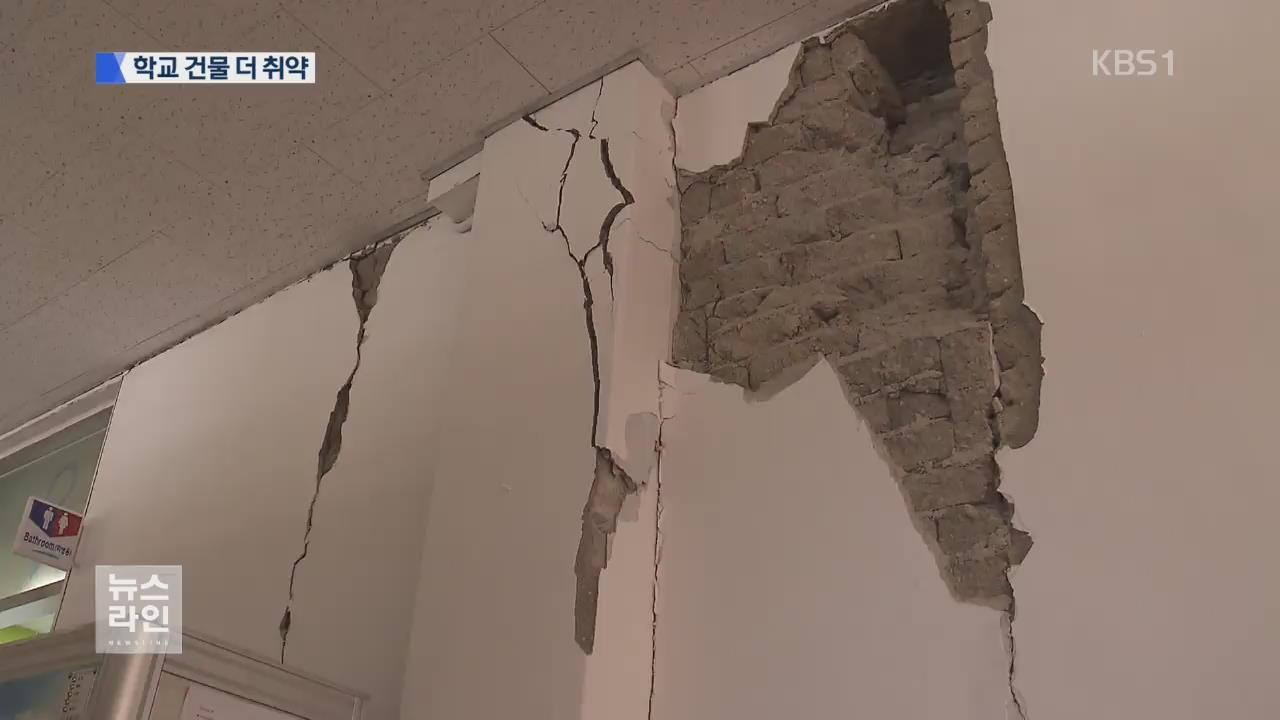spalling: (672, 0, 1042, 616), (278, 235, 402, 661), (575, 448, 635, 655)
